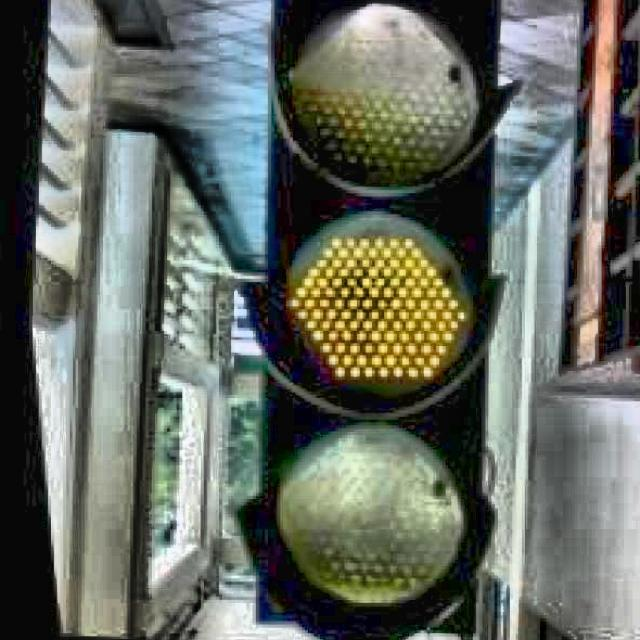yellow: (282, 0, 484, 632)
